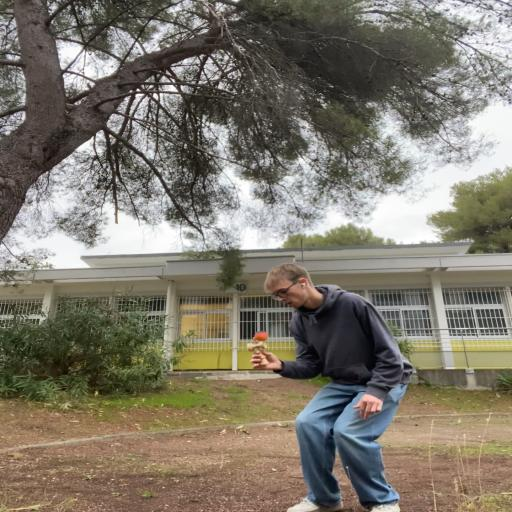kendama_ball: (254, 331, 268, 341)
